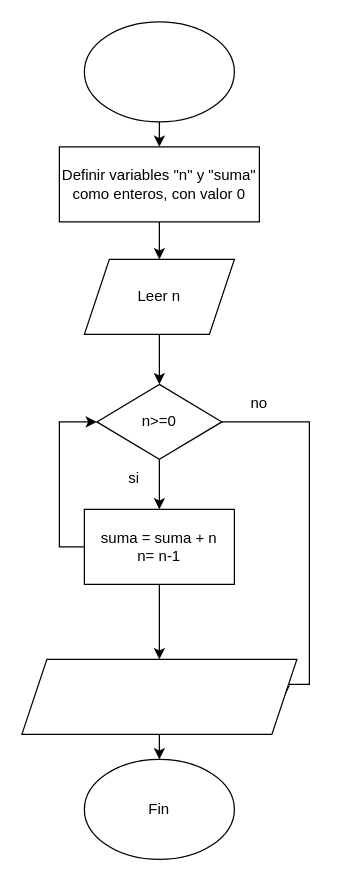
This 341x881 diagram has some shape labels left out. Here are the shapes that lost their labels. From the top down, the centre of each, then its label:
the point at 158,71: Inicio
the point at 159,696: Escribir ("El resultado es" + suma)
